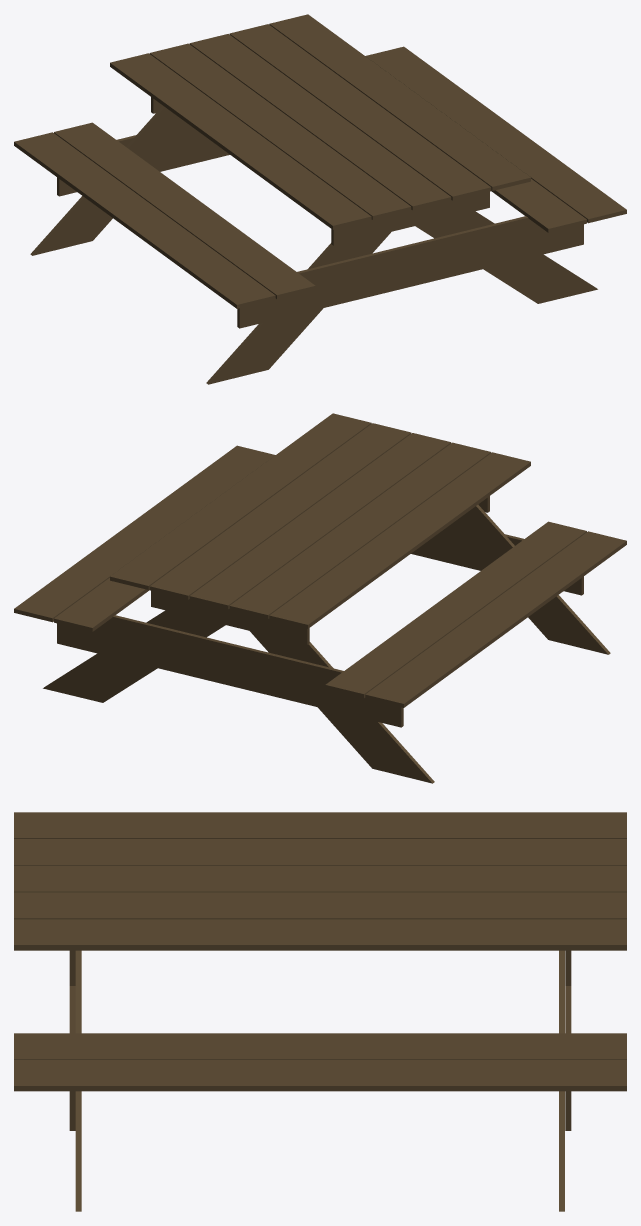
The model's file is mesa.fbx.
3 renders of one model, top to bottom at view 1: azimuth 30°, elevation 25°; view 2: azimuth 150°, elevation 25°; view 3: azimuth 270°, elevation 25°, orthographic. The views are drawn at different scales.
Parts seen in each view (by area): view 1: pCube18; view 2: pCube18; view 3: pCube18.
Part boxes in pixels (<box>): pCube18: <box>14,14,626,384</box>; pCube18: <box>14,413,626,783</box>; pCube18: <box>14,812,626,1211</box>.
Bounding box in the file's own units: 10.23 × 3.71 × 9.98.
